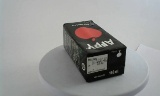appy: (57, 20, 118, 83)
